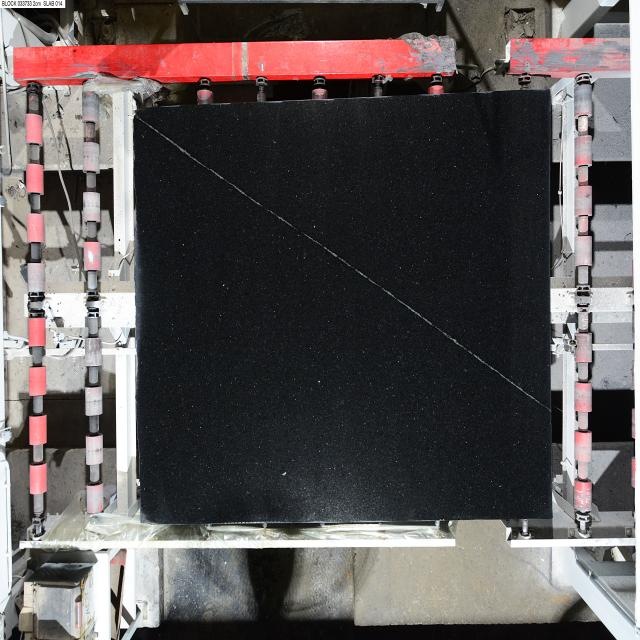chapa: (134, 90, 551, 523)
